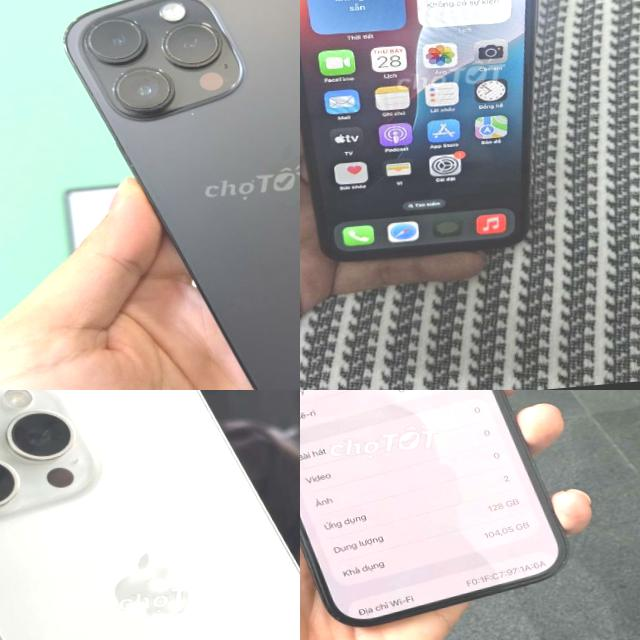gen_14: (50, 0, 300, 390), (300, 390, 574, 632)
gen_15: (0, 390, 300, 640)
gen_x_xs: (300, 0, 573, 285)
